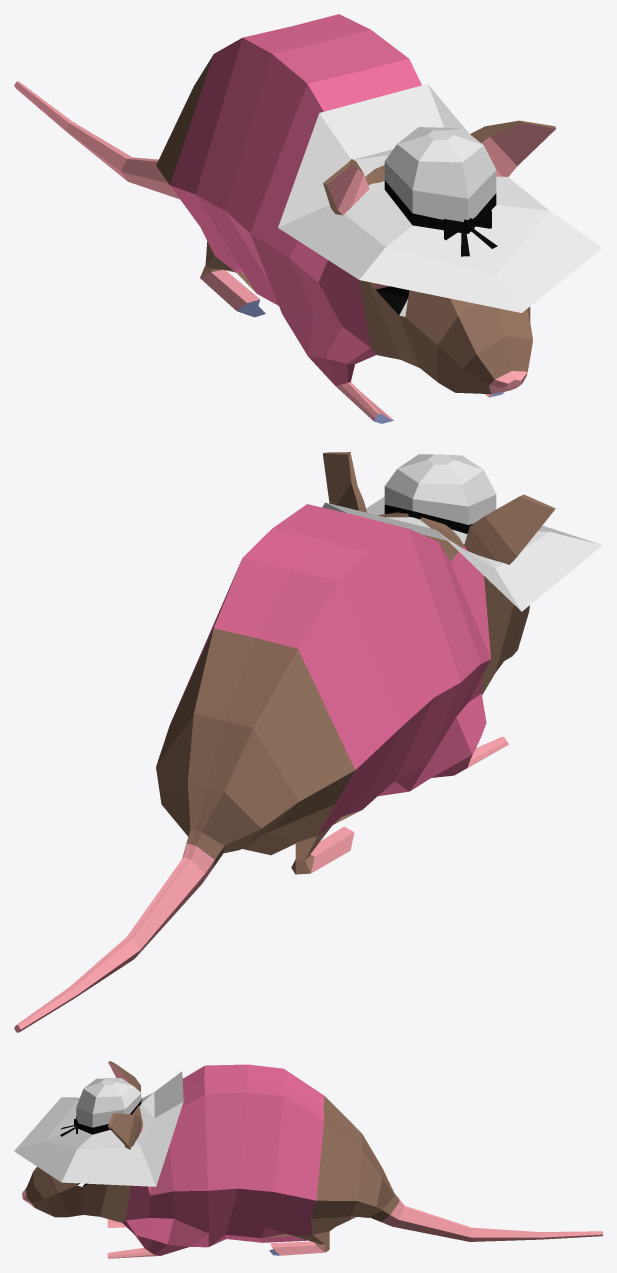
Rendered from skins rat mme couture .fbx.
3 views of the same model, one above another, from view 1: azimuth 30°, elevation 25°; view 2: azimuth 150°, elevation 25°; view 3: azimuth 270°, elevation 25° (orthographic). The views are drawn at different scales.
Visible parts, largest first — view 1: Cube.001; view 2: Cube.001; view 3: Cube.001.
Boxes of the visible parts, x1,y1,x2,y2 form: Cube.001: (14,14,602,423); Cube.001: (14,452,602,1032); Cube.001: (14,1061,602,1258).
Size of the model in its own units: 220 by 243 by 789.
